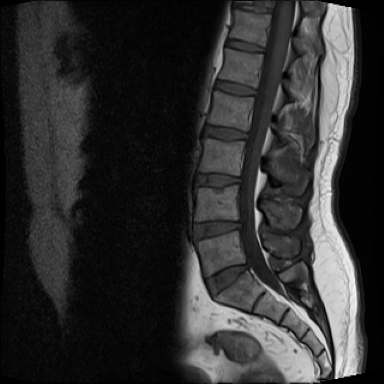Lumbar Disc Bulge (LDB): (194, 220, 253, 248)
Normal IVD: (205, 262, 258, 310), (196, 166, 255, 191), (205, 116, 263, 139), (221, 67, 272, 91), (229, 25, 278, 44)
Spinal Stenosis (SS): (237, 218, 254, 240)
